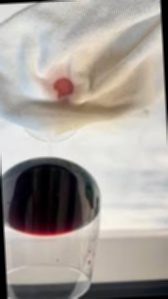wine: (50, 69, 79, 105)
